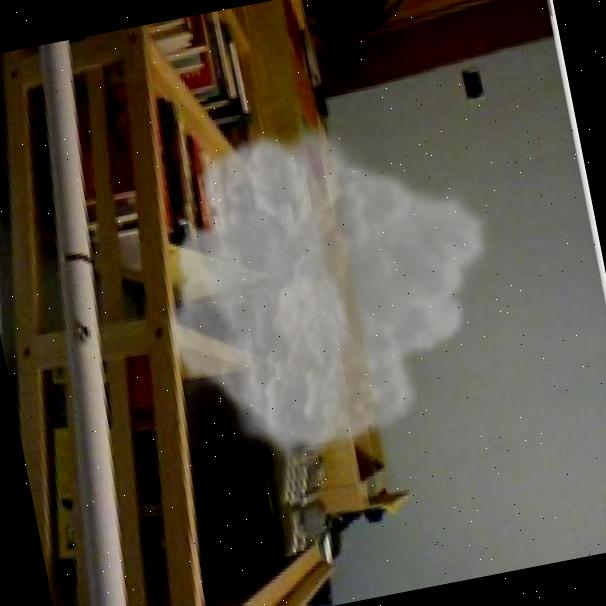smoke: (129, 85, 531, 487)
